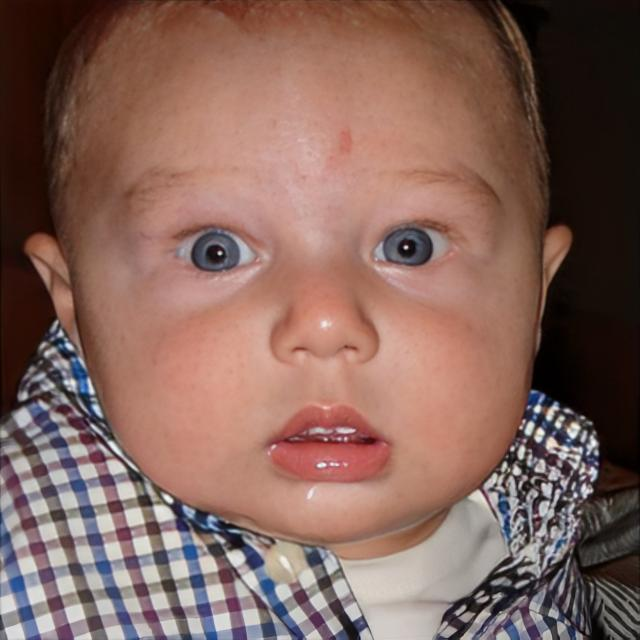fear: (91, 0, 532, 549)
